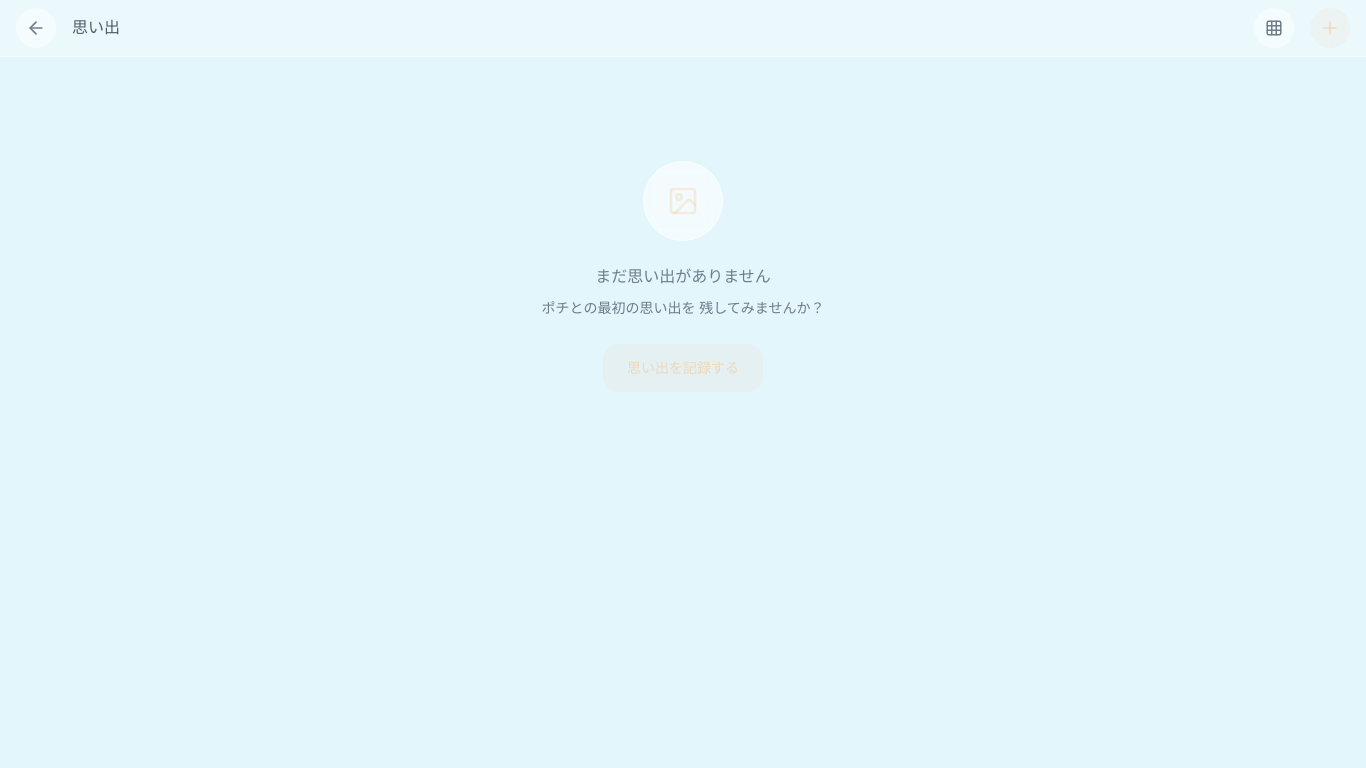
TimelineScreen — 空状態 › 「思い出を記録する」を押すとフォームが開く
The width and height of the screenshot is (1366, 768).
What coordinates should you click on to do the following:
click the button "思い出を記録する"
I would click on:
 (683, 368)
Its box is [603,344,763,392].
(page scrolled)
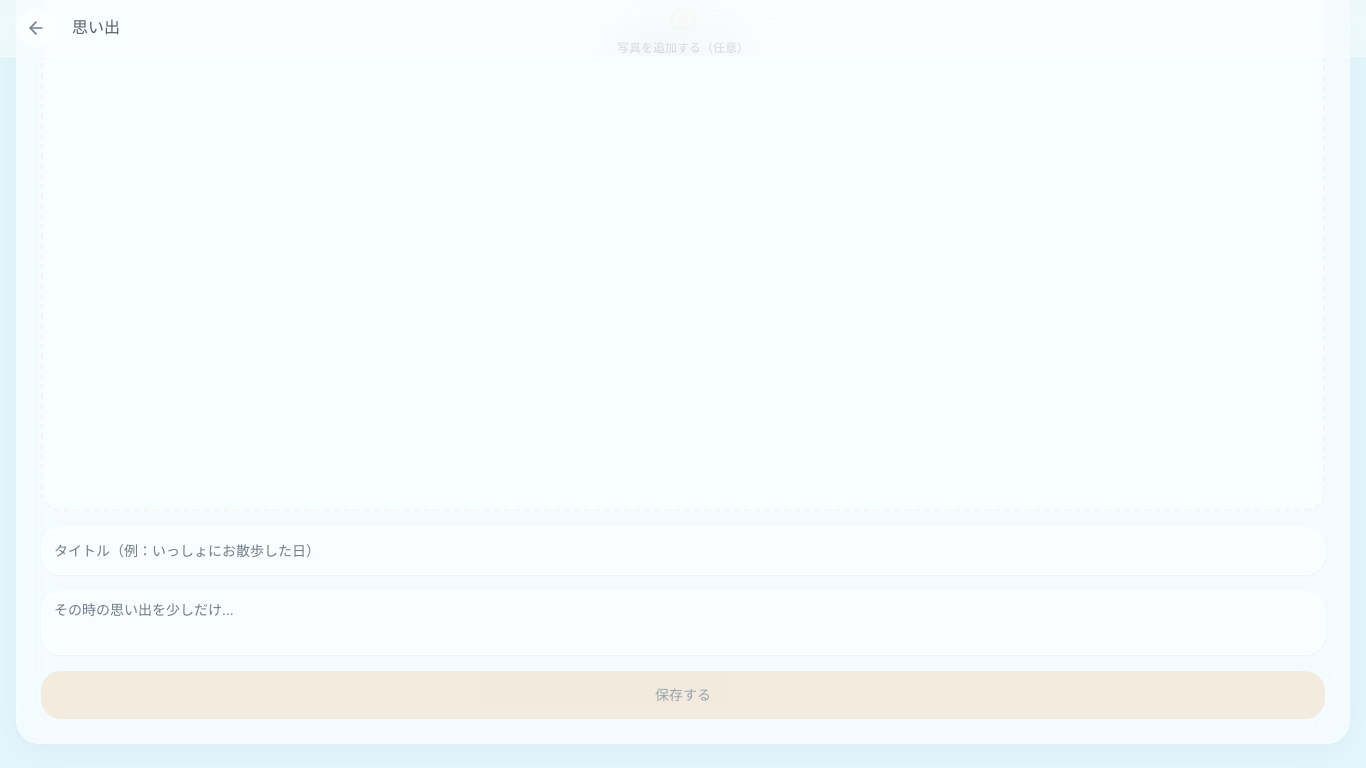
Now the field with placeholder "タイトル（例：いっしょにお散歩した日）" is shown, box [41,527,1325,575]
